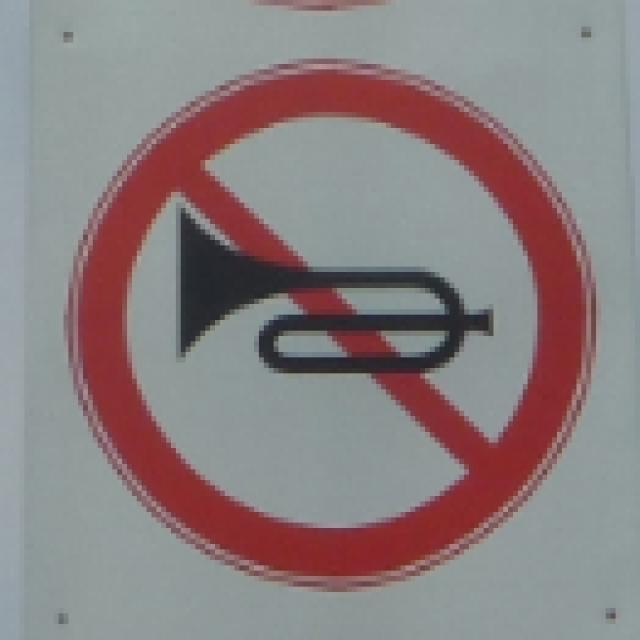No Horn: (45, 64, 617, 578)
